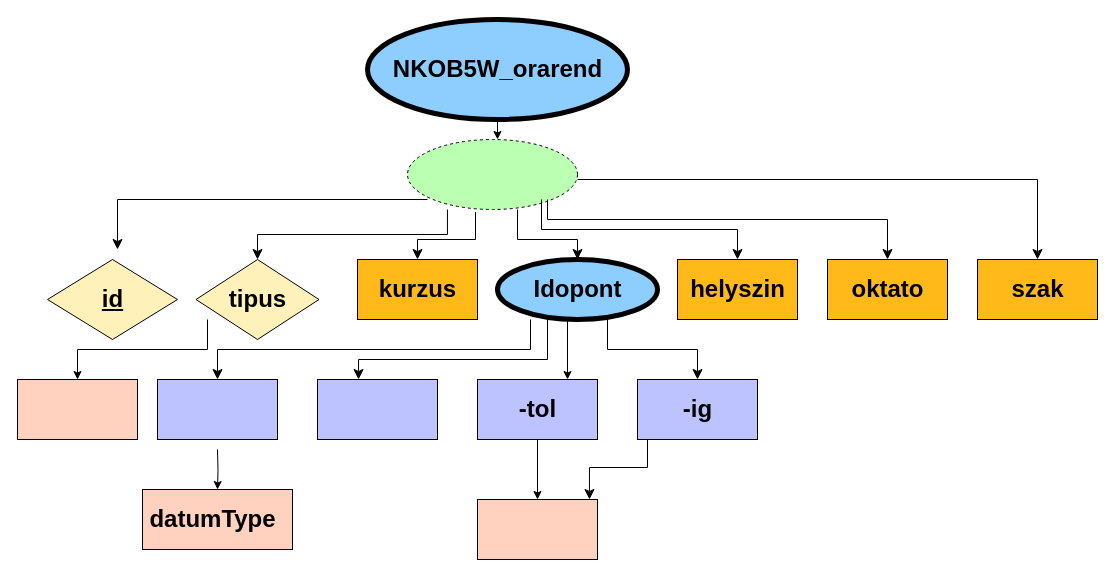
This 1115x577 diagram has some shape labels left out. The shapes that lost their labels are listed below. From the top down, each one's centre as x and y in pixels, then its label:
(x=492, y=174): ora
(x=77, y=409): tipusType
(x=217, y=409): datum
(x=377, y=409): nap
(x=537, y=529): timeType
